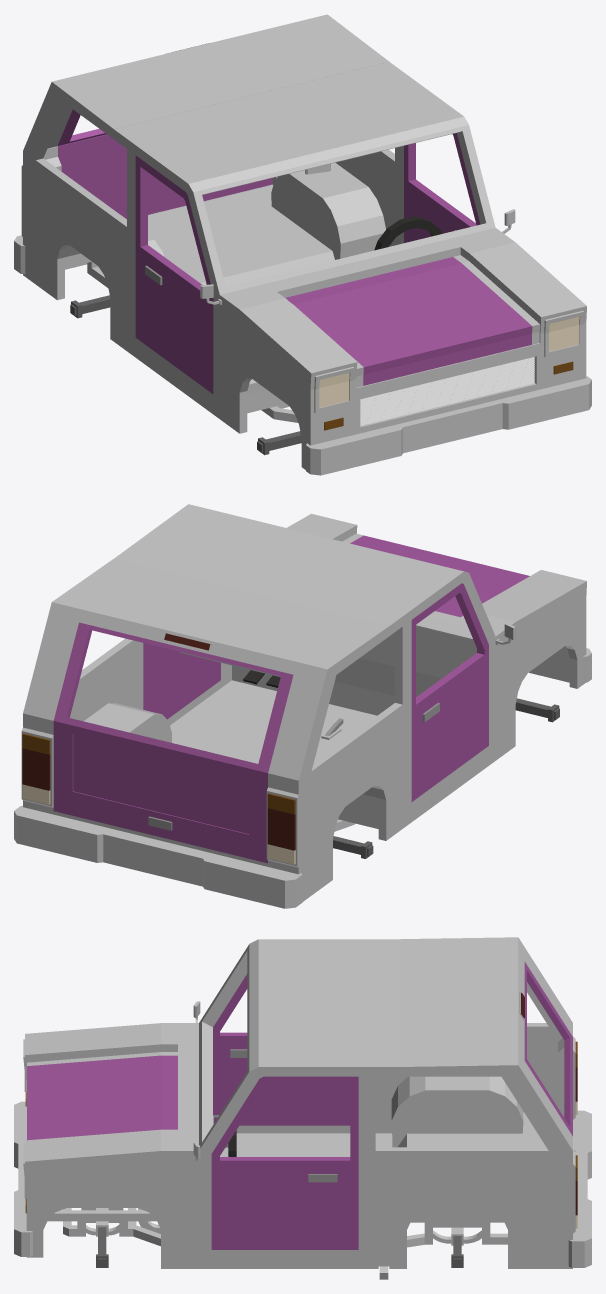
The model's file is trombone.obj.
The picture shows the model from 3 angles, top to bottom: view 1: azimuth 30°, elevation 25°; view 2: azimuth 150°, elevation 25°; view 3: azimuth 270°, elevation 25°; orthographic projection. The views are drawn at different scales.
Parts seen in each view (by area): view 1: cube, hood, rightdoor, gate, leftdoor, &RunningLight_fff3cf_FFFFF_010, steeringwheel, frontaxle; view 2: cube, gate, rightdoor, leftdoor, hood, &BrakeLight_c4290e_FFFFF_010, &BackupLight_fff3cf_FFFFF_010, frontaxle, rearaxle; view 3: cube, leftdoor, hood, rightdoor, gate.
Boxes of the visible parts, x1,y1,x2,y2 form: cube: (14, 14, 591, 475); hood: (285, 257, 532, 385); rightdoor: (135, 155, 213, 393); gate: (57, 109, 272, 218); leftdoor: (404, 133, 480, 242); &RunningLight_fff3cf_FFFFF_010: (319, 316, 579, 407); steeringwheel: (374, 216, 442, 250); frontaxle: (257, 431, 301, 455); cube: (14, 504, 591, 908); gate: (53, 622, 293, 863); rightdoor: (411, 583, 488, 801); leftdoor: (143, 643, 220, 719); hood: (350, 535, 529, 617); &BrakeLight_c4290e_FFFFF_010: (22, 633, 295, 850); &BackupLight_fff3cf_FFFFF_010: (22, 784, 295, 864); frontaxle: (515, 698, 559, 722); rearaxle: (333, 836, 373, 858); cube: (14, 937, 591, 1279); leftdoor: (211, 1076, 358, 1249); hood: (27, 1055, 177, 1140); rightdoor: (213, 974, 350, 1125); gate: (524, 962, 575, 1151).
Size of the model in its own units: 2.56 by 1.73 by 4.3.
